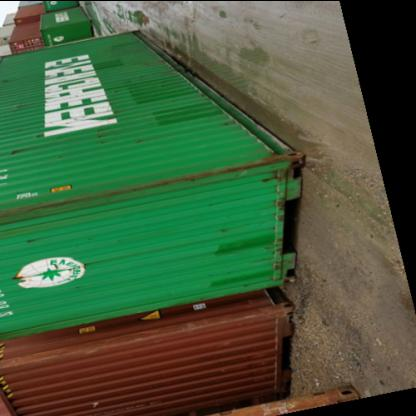Damage: (3, 154, 294, 222)
